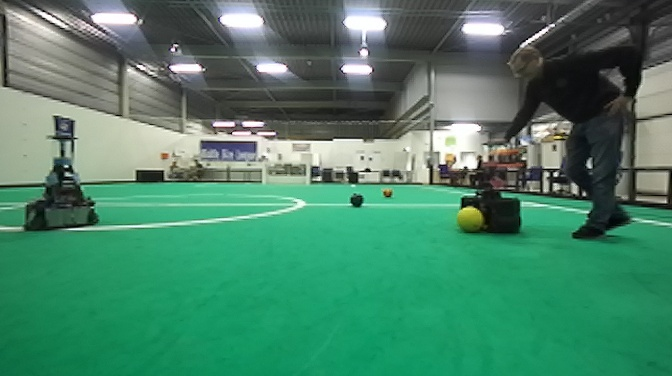ball: (453, 205, 485, 235), (347, 190, 368, 211), (381, 186, 395, 199)
goal: (261, 161, 311, 186)
goalpost: (261, 161, 268, 184), (305, 162, 311, 185)
human: (483, 41, 646, 242)
robot: (24, 131, 106, 232), (459, 140, 523, 235)
